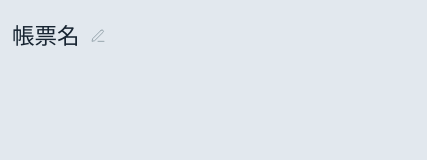
Scenario: cancels inline editing with Escape without saving
Click the button named "テンプレート名を変更": (98, 36) [84, 17, 112, 55]
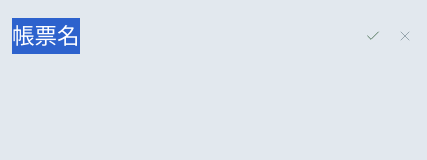
Replace the text in the field named "テンプレート名" with "変更途中": (184, 36) [12, 18, 355, 54]
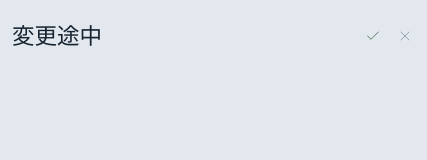
Press Escape in the field named "テンプレート名", box [12, 18, 355, 54]
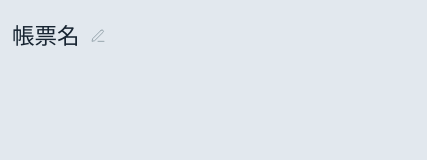
Now the heading "帳票名" is shown, box [12, 18, 80, 54]
